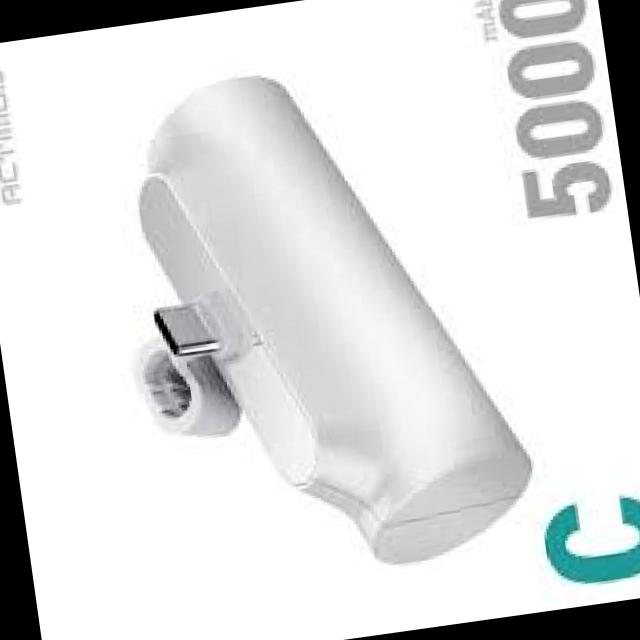portable-charger: (88, 39, 546, 608)
